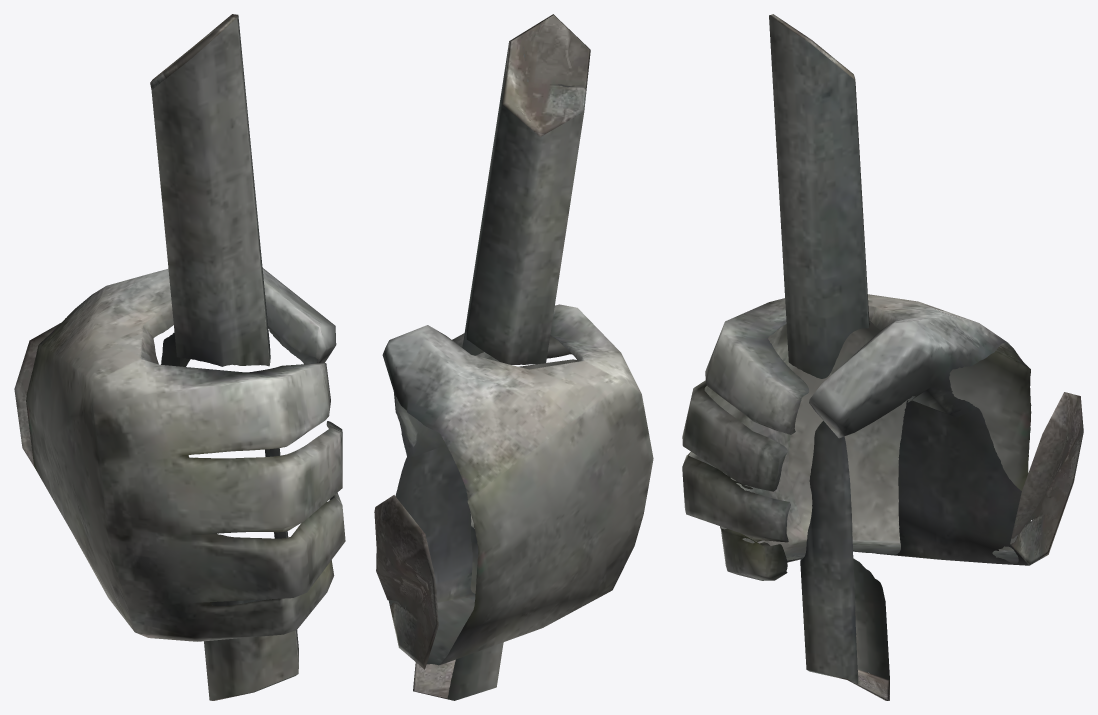
3 views of the same model, side by side, from view 1: azimuth 30°, elevation 25°; view 2: azimuth 150°, elevation 25°; view 3: azimuth 270°, elevation 25° (orthographic). The views are drawn at different scales.
Visible parts, largest first — view 1: SM_SaradominTemple_Statue_01v10_LOD0; view 2: SM_SaradominTemple_Statue_01v10_LOD0; view 3: SM_SaradominTemple_Statue_01v10_LOD0.
Boxes of the visible parts, x1,y1,x2,y2 form: SM_SaradominTemple_Statue_01v10_LOD0: [14, 14, 345, 700]; SM_SaradominTemple_Statue_01v10_LOD0: [374, 14, 653, 700]; SM_SaradominTemple_Statue_01v10_LOD0: [682, 14, 1083, 700].
Size of the model in its own units: 0.8372 by 2.19 by 1.23.
Materials: 2 (2 with a texture image).
